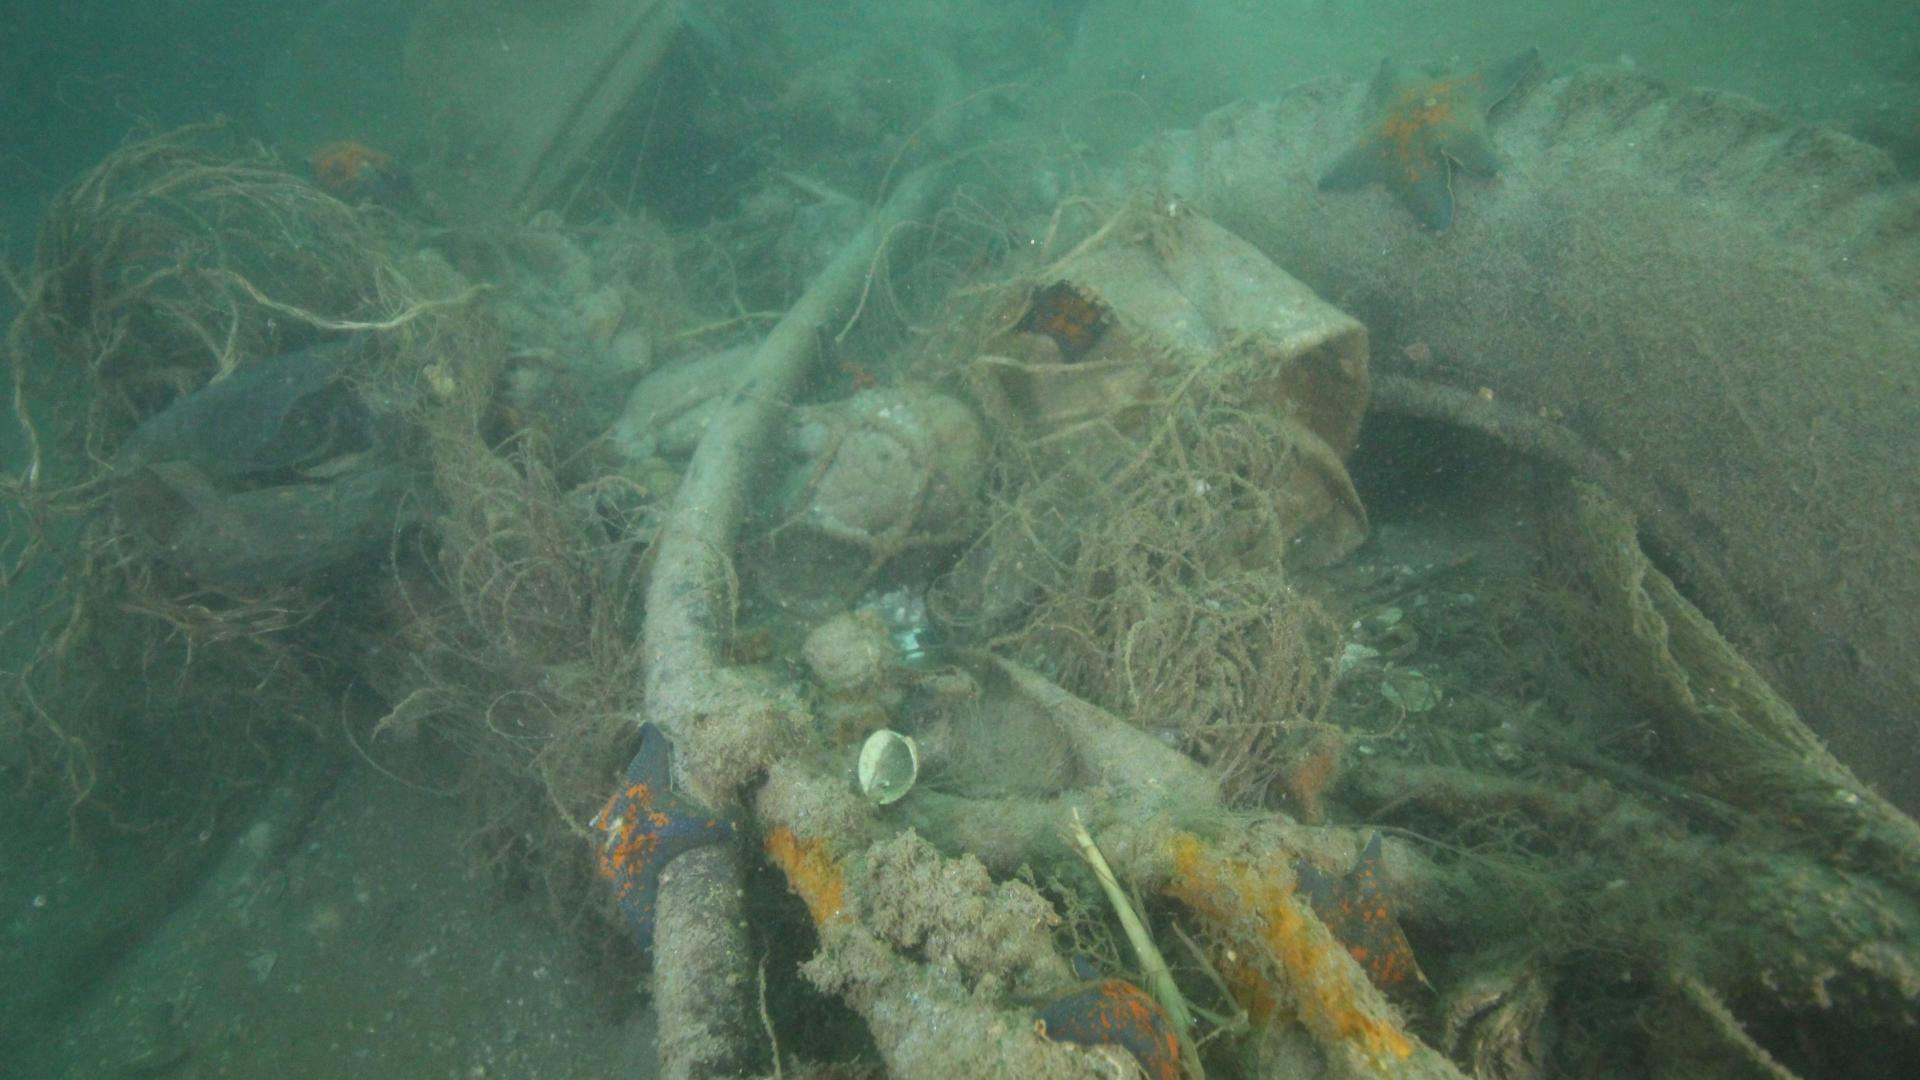tire: (1023, 50, 1920, 825)
